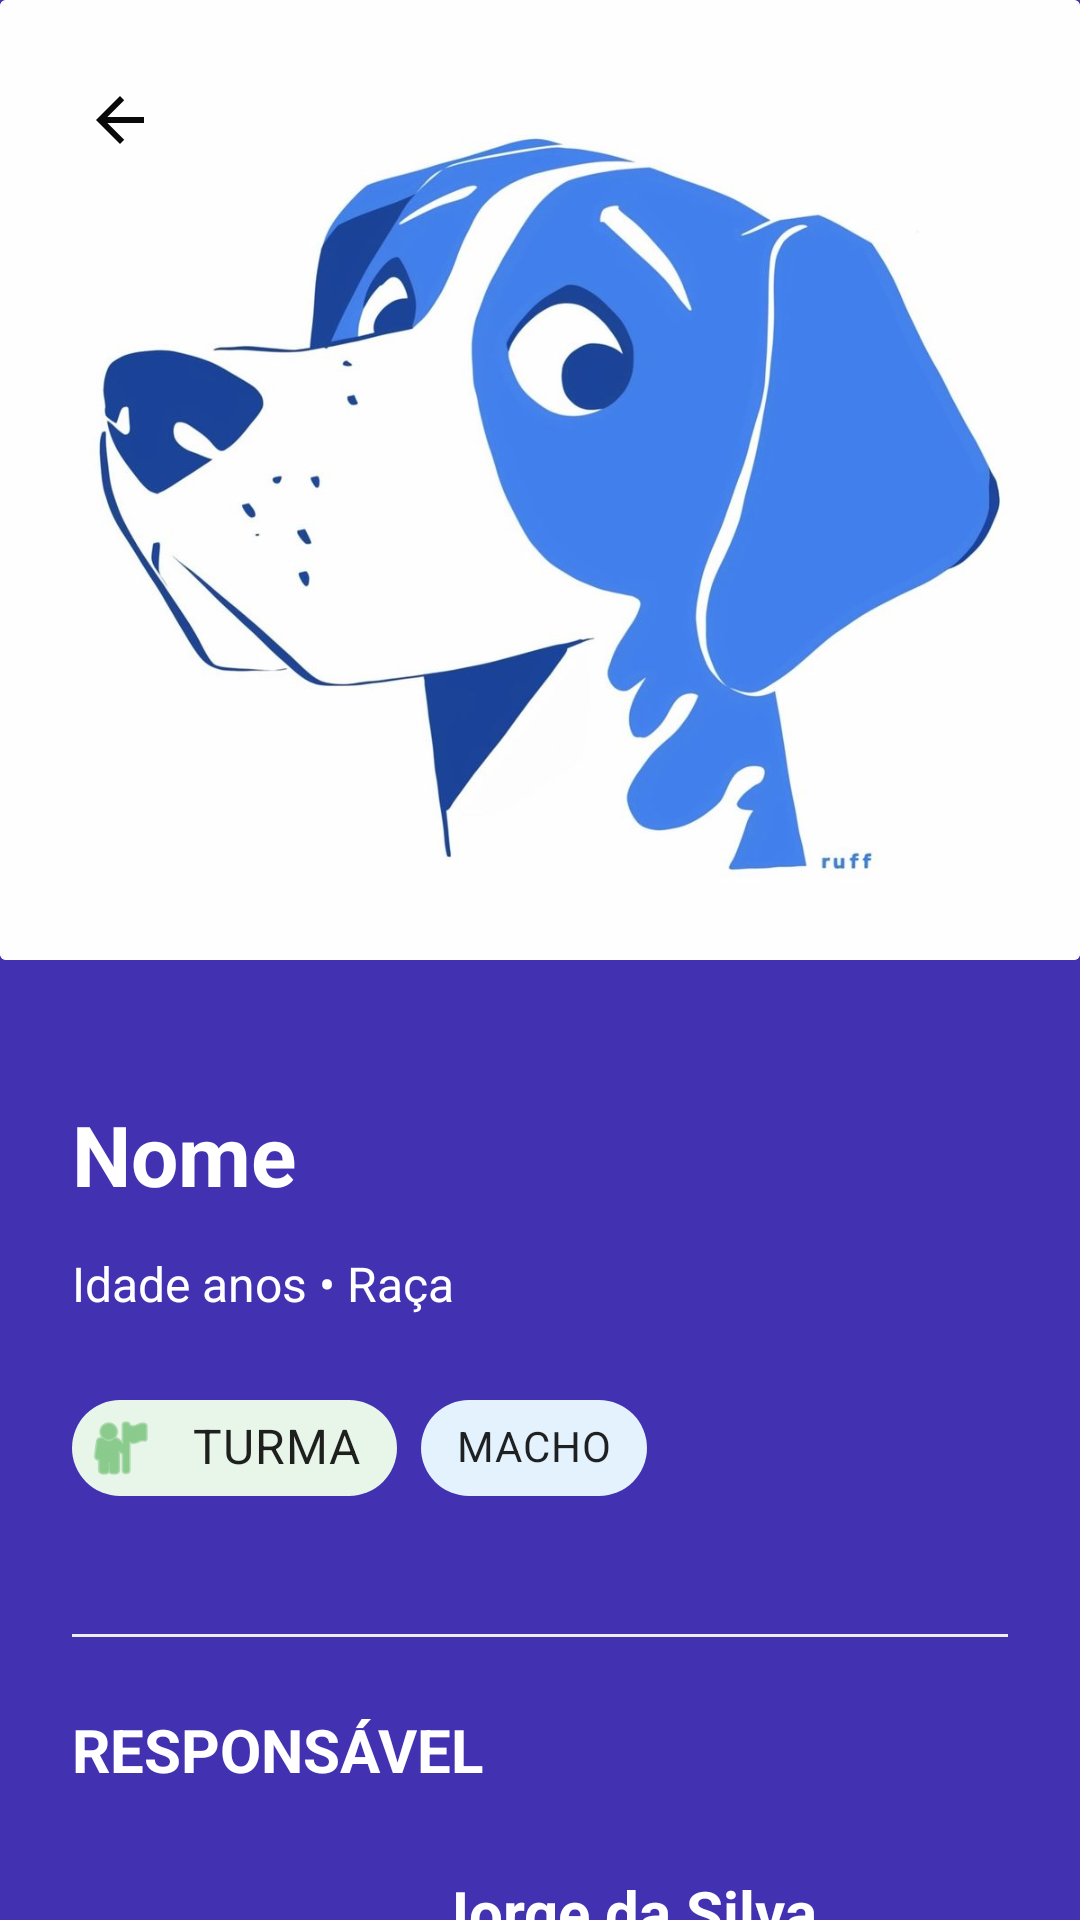

Point at icon controls on the screen. Image size 1080w x 1920h, points as (x,y).
Voltar: (120,120)
